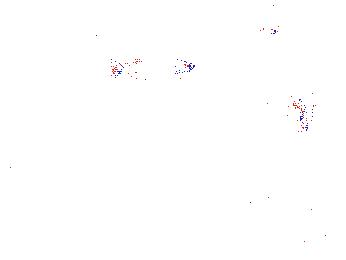X-ray fish: (59, 59, 98, 86)
glassfish: (219, 102, 324, 168)
red belly glassfish: (241, 19, 279, 38)
redtail glassfish: (107, 53, 196, 85)
